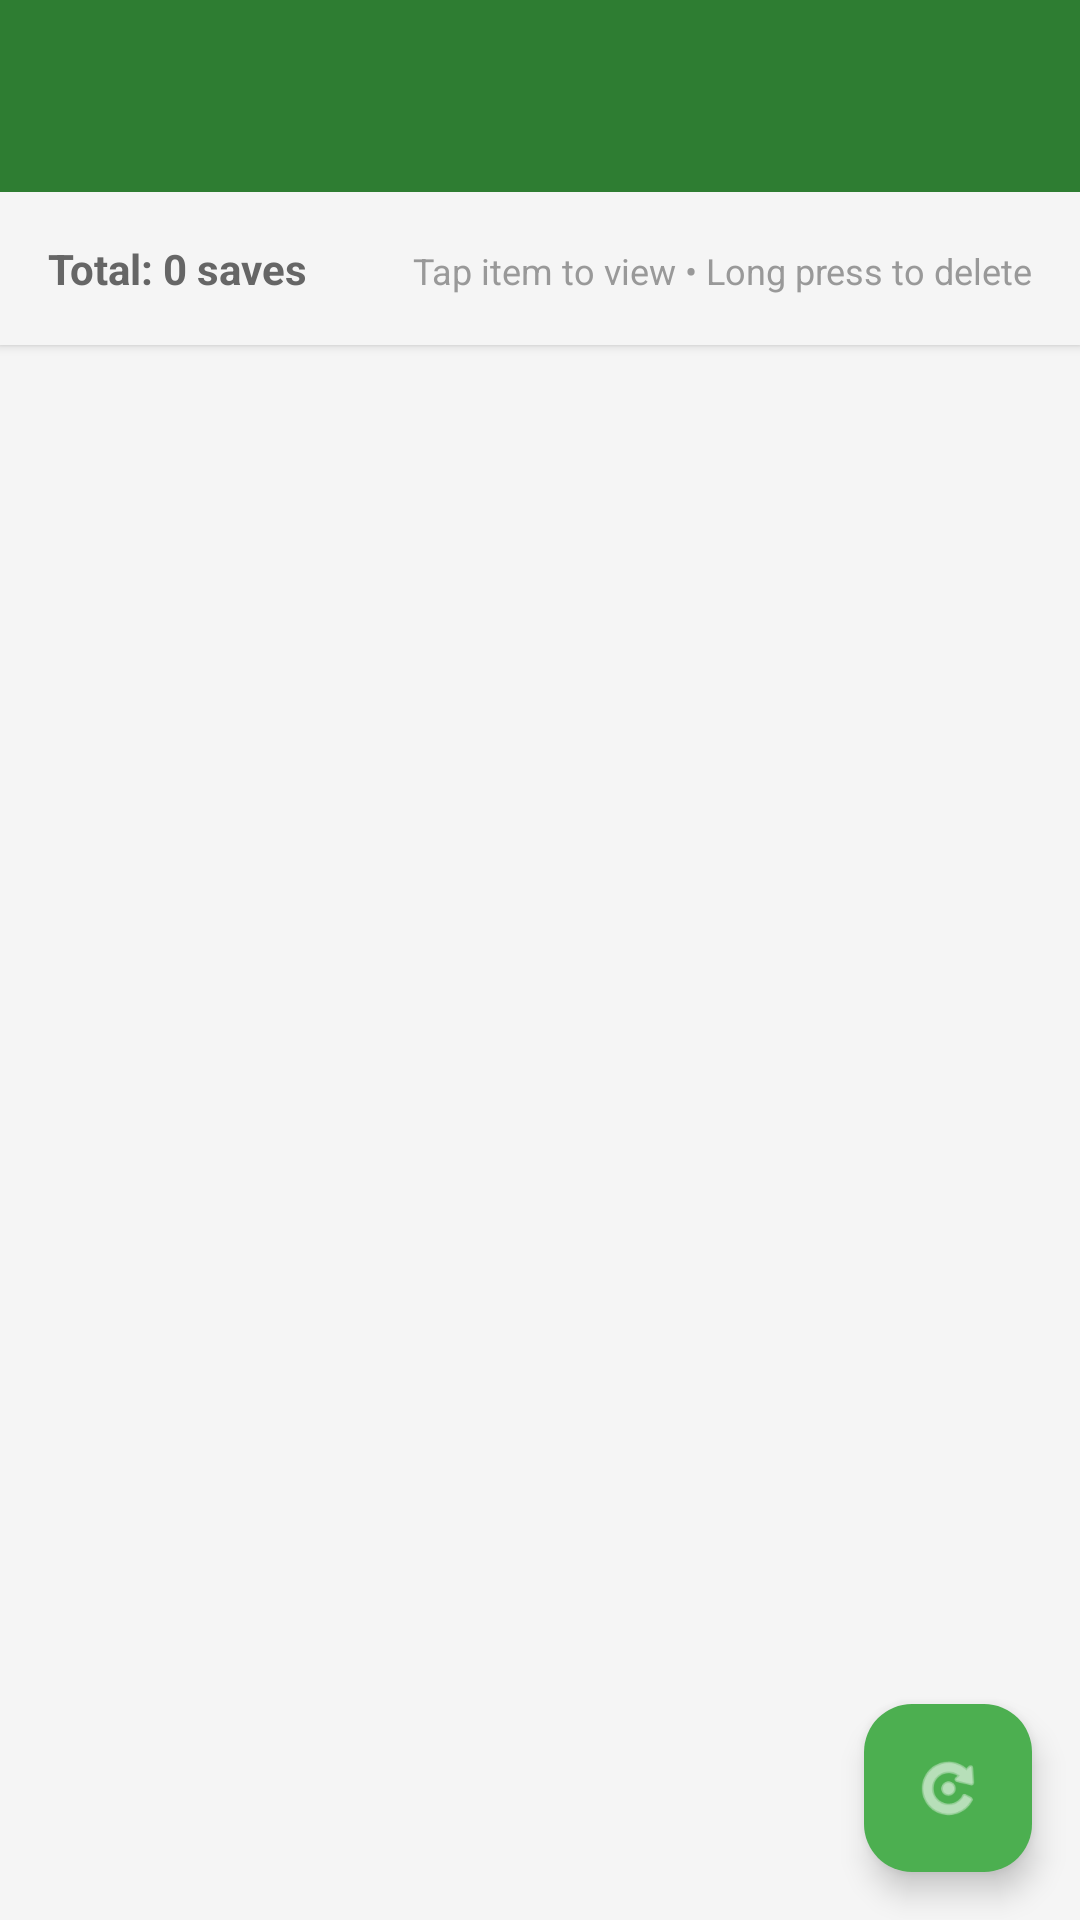

Point at icon controls on the screen. Image size 1080×1920, points as point (x, y).
Refresh: point (948, 1788)
